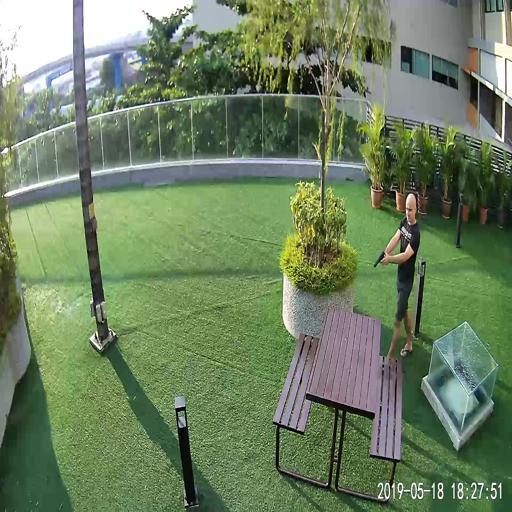Handgun: (371, 248, 387, 267)
